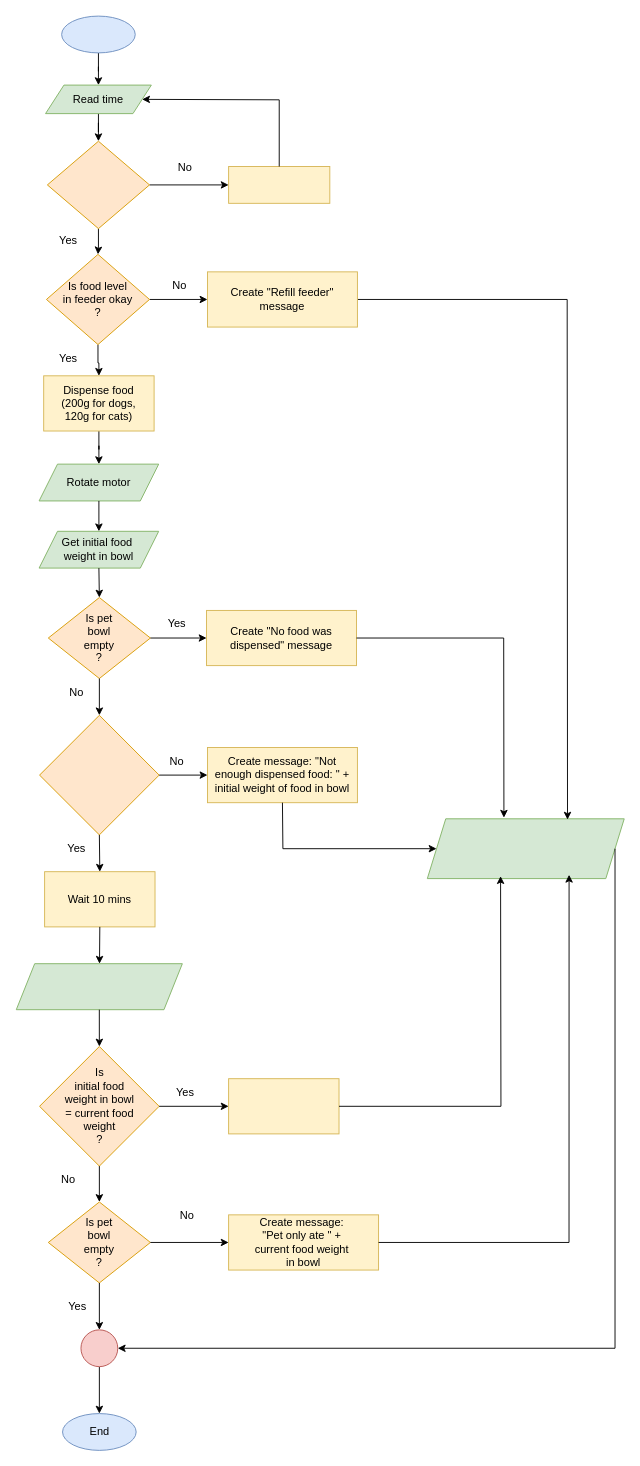
Some shapes in this 640 by 1466 pixel diagram are drawn without their labels. Each missing label, with the centre of its shape:
Create "Pet did not eat" message: (x=283, y=1106)
Is initial food weight in bowl = 200g or 120g ?: (x=99, y=774)
Is it feeding time ?: (x=98, y=184)
Read current food weight after 10 mins: (x=98, y=986)
Send Alert: (x=525, y=848)
System ON: (x=98, y=34)
Wait for next feeding time: (x=279, y=184)
